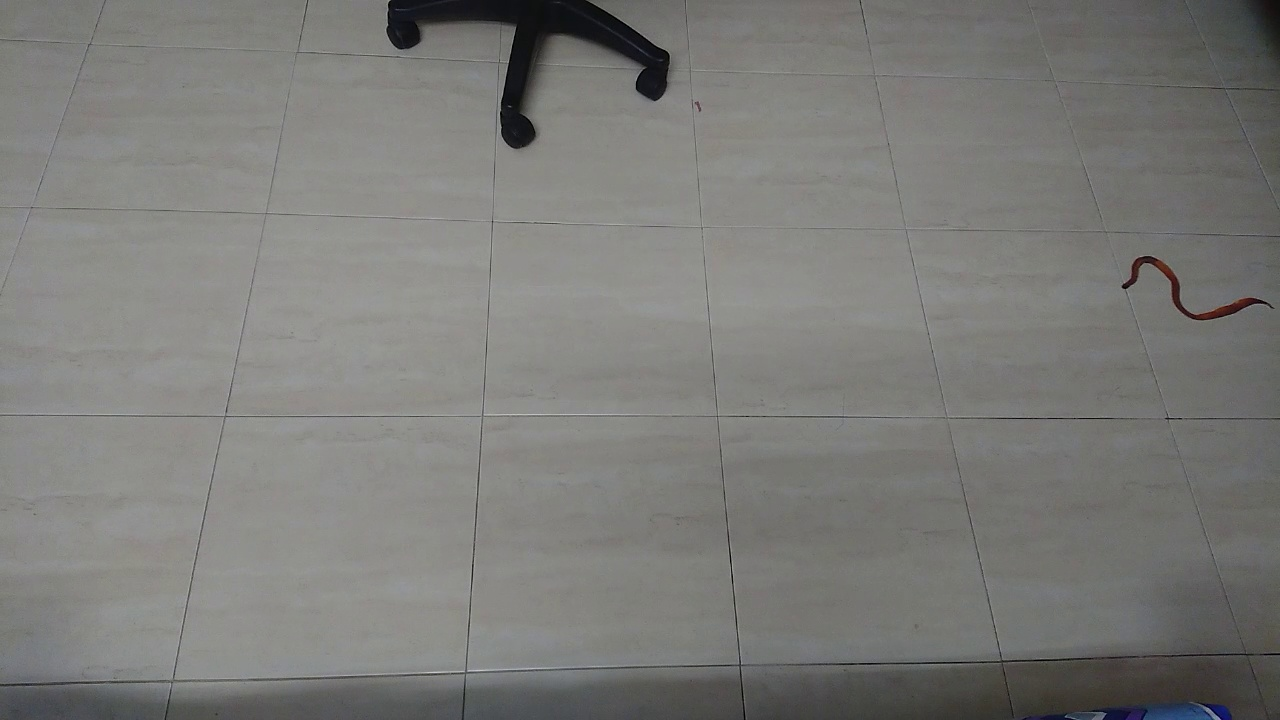snake: (1091, 233, 1280, 342)
